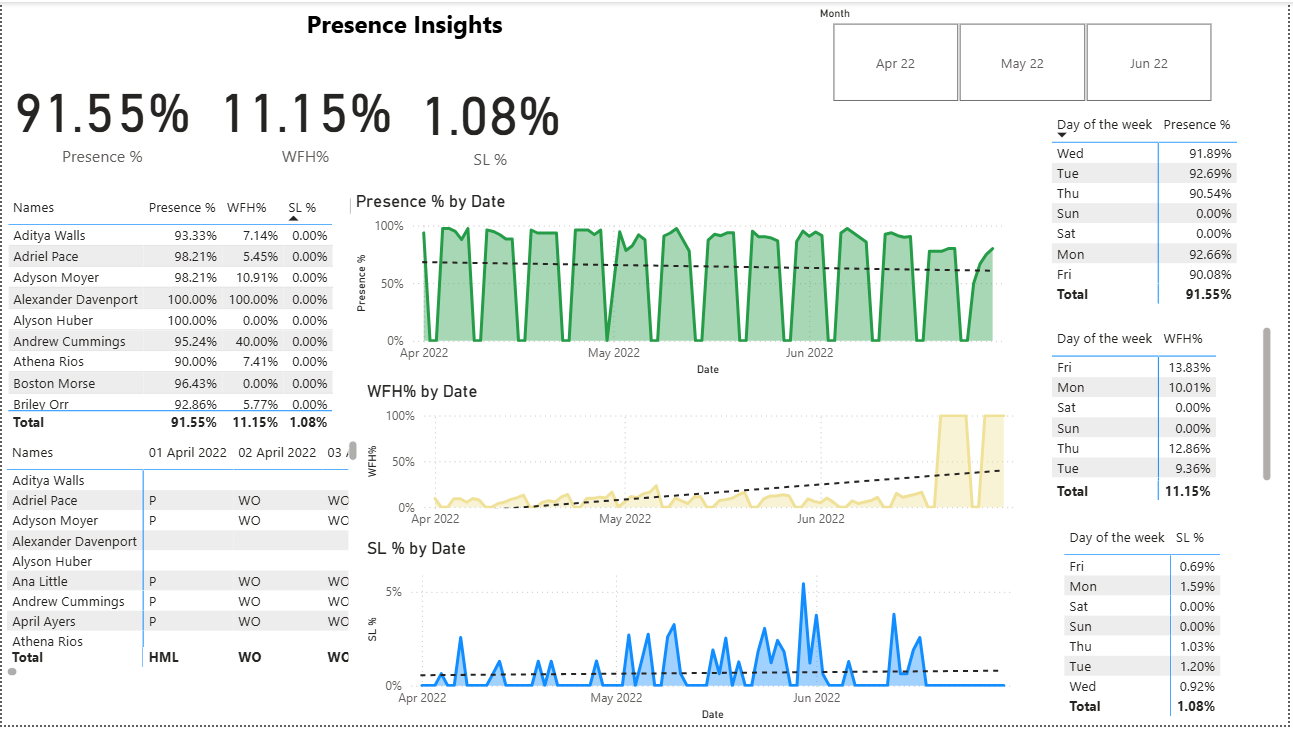

This screenshot's page, from the dashboard's own definition file:
{"tool":"powerbi","page":{"name":"Page 1","canvas":[1280,720],"ordinal":0},"visuals":[{"type":"card","fields":{"Values":["Measure Table.Presence %"]},"box":[0,53.3,200,122.7],"z":0},{"type":"slicer","fields":{"Values":["Final Data.Month"]},"box":[801.1,0,426.7,105.7],"z":1000},{"type":"card","fields":{"Values":["Measure Table.WFH%"]},"box":[200,53.3,204,122.7],"z":2000},{"type":"card","fields":{"Values":["Measure Table.SL %"]},"box":[404,56,164,122.7],"z":3000},{"type":"tableEx","fields":{"Values":["Final Data.Names","Measure Table.Presence %","Measure Table.WFH%","Measure Table.SL %"]},"box":[0,187.7,359.3,244.4],"z":4000},{"type":"textbox","box":[0,0,801.1,56],"z":5000},{"type":"pivotTable","fields":{"Rows":["Final Data.Names"],"Values":["Min(Final Data.Value)"],"Columns":["Final Data.Date"]},"box":[0,432,358.7,244],"z":6000},{"type":"areaChart","fields":{"Category":["Final Data.Date"],"Y":["Measure Table.Presence %"]},"box":[346.7,188,668,189.3],"z":7000},{"type":"areaChart","fields":{"Category":["Final Data.Date"],"Y":["Measure Table.WFH%"]},"box":[358.7,377.3,668,156],"z":8000},{"type":"areaChart","fields":{"Category":["Final Data.Date"],"Y":["Measure Table.SL %"]},"box":[358.7,533.3,668,186.7],"z":9000},{"type":"pivotTable","fields":{"Rows":["Final Data.Day of the week"],"Values":["Measure Table.Presence %"]},"box":[1040,105.3,228,204],"z":10000},{"type":"pivotTable","fields":{"Rows":["Final Data.Day of the week"],"Values":["Measure Table.WFH%"]},"box":[1040,318.7,228,182.7],"z":11000},{"type":"pivotTable","fields":{"Rows":["Final Data.Day of the week"],"Values":["Measure Table.SL %"]},"box":[1052,516,228,204],"z":12000}]}

Visuals, with their boxes in screenshot pixels (x1, y1, x2, y2), scaled from the page's 1280x720 canvas onto the 1293x729 screenshot:
card - Measure Table.Presence %: <region>0, 54, 202, 178</region>
slicer - Final Data.Month: <region>809, 0, 1240, 107</region>
card - Measure Table.WFH%: <region>202, 54, 408, 178</region>
card - Measure Table.SL %: <region>408, 57, 574, 181</region>
tableEx - Final Data.Names x Measure Table.Presence %: <region>0, 190, 363, 438</region>
textbox: <region>0, 0, 809, 57</region>
pivotTable - Final Data.Names x Min(Final Data.Value): <region>0, 437, 362, 684</region>
areaChart - Final Data.Date x Measure Table.Presence %: <region>350, 190, 1025, 382</region>
areaChart - Final Data.Date x Measure Table.WFH%: <region>362, 382, 1037, 540</region>
areaChart - Final Data.Date x Measure Table.SL %: <region>362, 540, 1037, 728</region>
pivotTable - Final Data.Day of the week x Measure Table.Presence %: <region>1051, 107, 1281, 313</region>
pivotTable - Final Data.Day of the week x Measure Table.WFH%: <region>1051, 323, 1281, 508</region>
pivotTable - Final Data.Day of the week x Measure Table.SL %: <region>1063, 522, 1292, 728</region>
